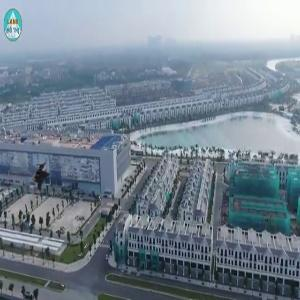drone: (21, 157, 62, 198)
